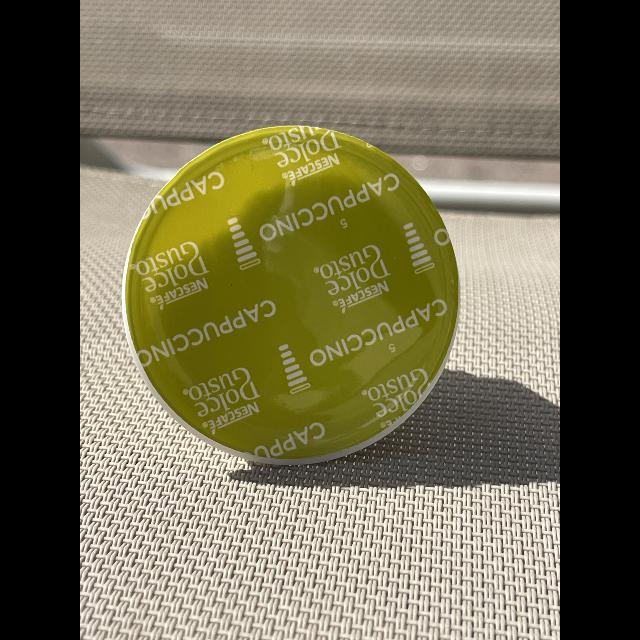intact_capsule: (109, 116, 471, 498)
